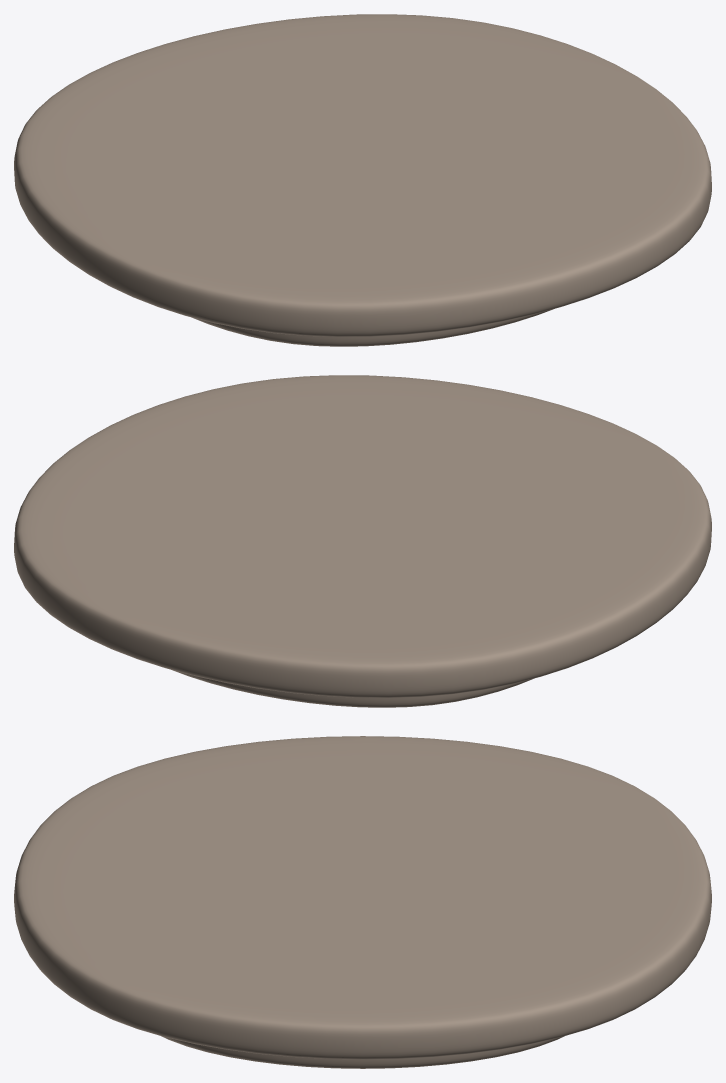
The model's file is lid_jar.fbx.
3 views of the same model, one above another, from view 1: azimuth 30°, elevation 25°; view 2: azimuth 150°, elevation 25°; view 3: azimuth 270°, elevation 25° (orthographic). The views are drawn at different scales.
Parts seen in each view (by area): view 1: lid_jar; view 2: lid_jar; view 3: lid_jar.
Part boxes in pixels (<box>): lid_jar: <box>14,14,711,346</box>; lid_jar: <box>14,375,711,707</box>; lid_jar: <box>14,736,711,1068</box>.
Bounding box in the file's own units: 41.22 × 5.26 × 41.22.
